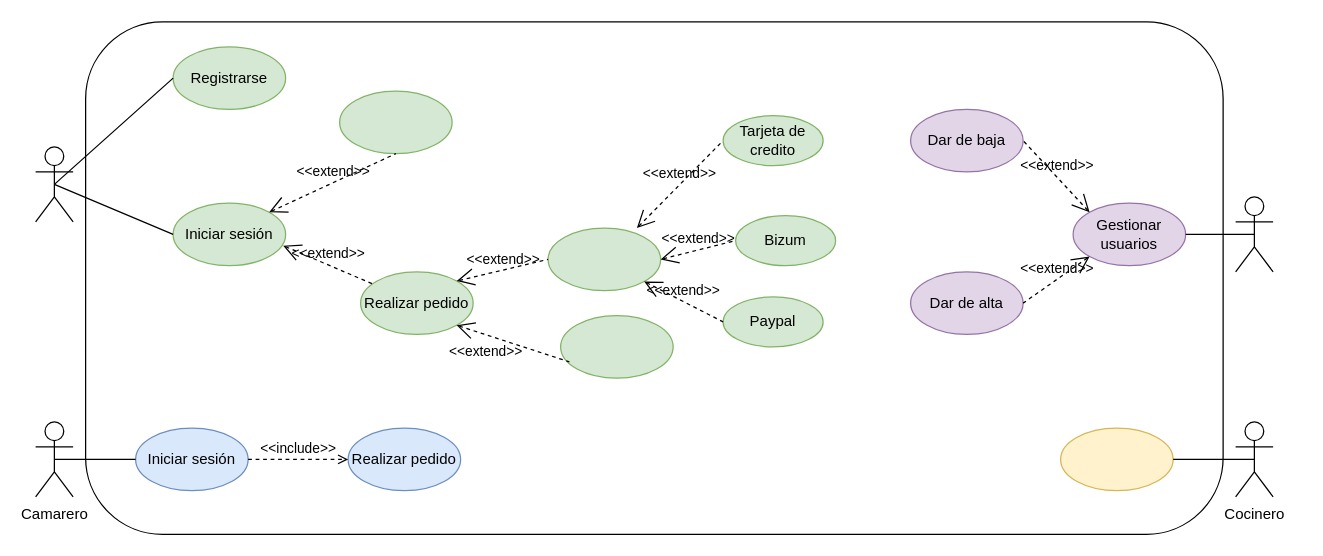
This 1323x556 diagram has some shape labels left out. The centre of each missing label's shape, as x and y in pixels:
"Administrador" belongs at point (1253, 234).
"Cliente" belongs at point (53, 184).
"Editar perfil" belongs at point (395, 122).
"Pagar en restaurante" belongs at point (616, 346).
"Pagar online" belongs at point (604, 259).
"Recibir pedido" belongs at point (1116, 459).
